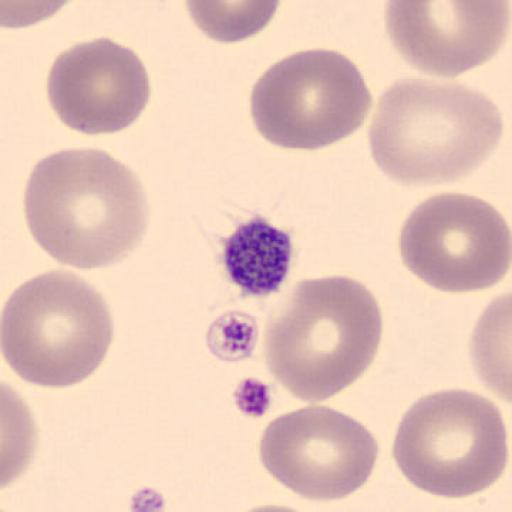Platelet: (217, 216, 296, 299), (202, 306, 263, 364)
RBC: (21, 144, 151, 272), (262, 273, 385, 405), (366, 76, 506, 190), (1, 267, 116, 390), (390, 385, 508, 501), (248, 46, 374, 154), (257, 402, 380, 504), (396, 190, 511, 295), (46, 35, 152, 138), (383, 1, 506, 78), (468, 288, 512, 402), (183, 0, 282, 44), (1, 380, 37, 494), (2, 0, 80, 30), (219, 499, 331, 512), (220, 503, 328, 512)
